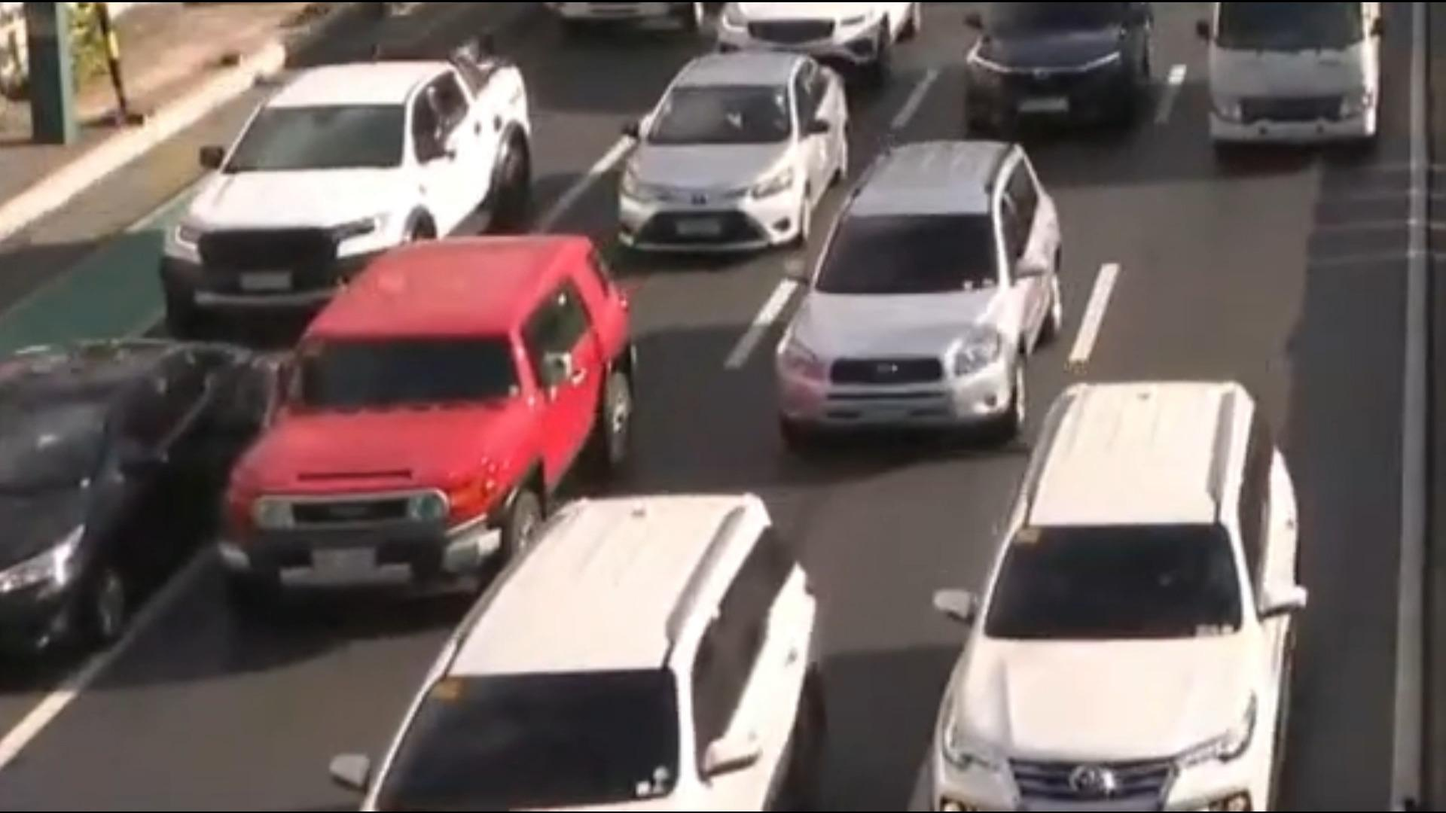Pickup: (160, 53, 525, 318)
SUV: (940, 376, 1299, 813), (358, 486, 821, 813), (217, 237, 616, 583), (783, 130, 1052, 433)
Sedan: (0, 326, 290, 662), (602, 53, 847, 247), (945, 0, 1169, 137)
Truck: (1190, 0, 1388, 151)
